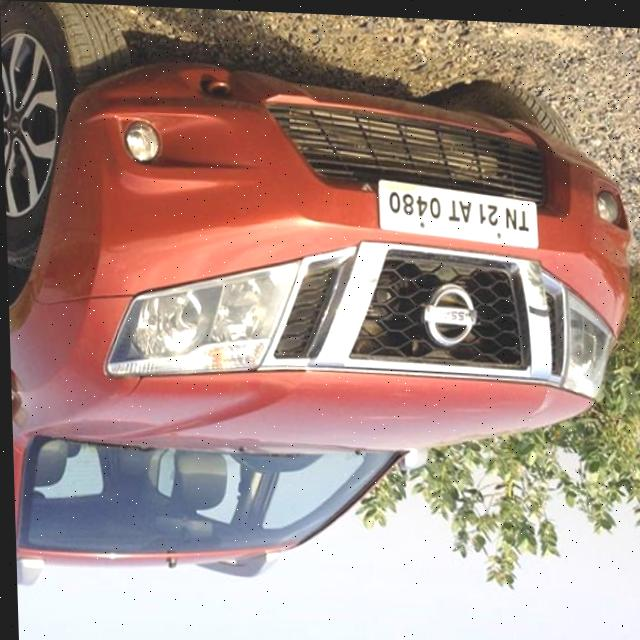plate: (376, 175, 539, 246)
